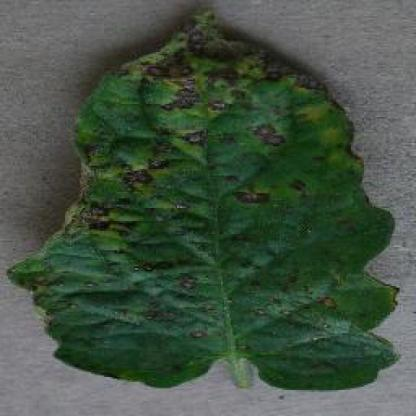Tomato_Blight: (7, 9, 403, 389)
